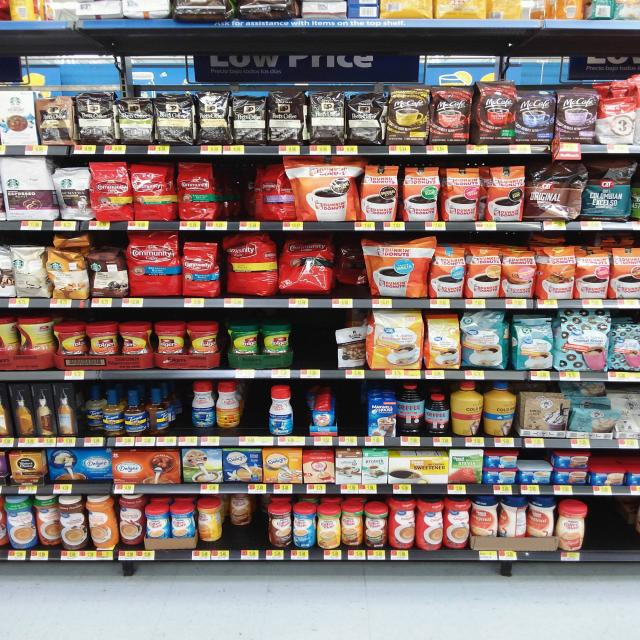void: (218, 161, 259, 230), (299, 313, 331, 379), (244, 379, 269, 448), (340, 382, 366, 446), (617, 495, 640, 561), (592, 497, 614, 562)
